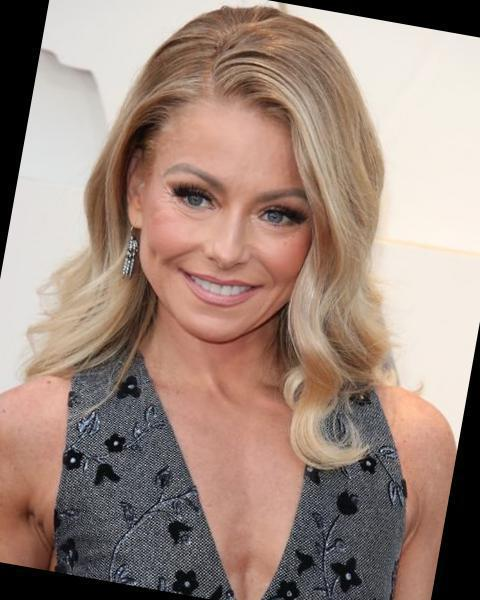Sober: (153, 104, 303, 345)
